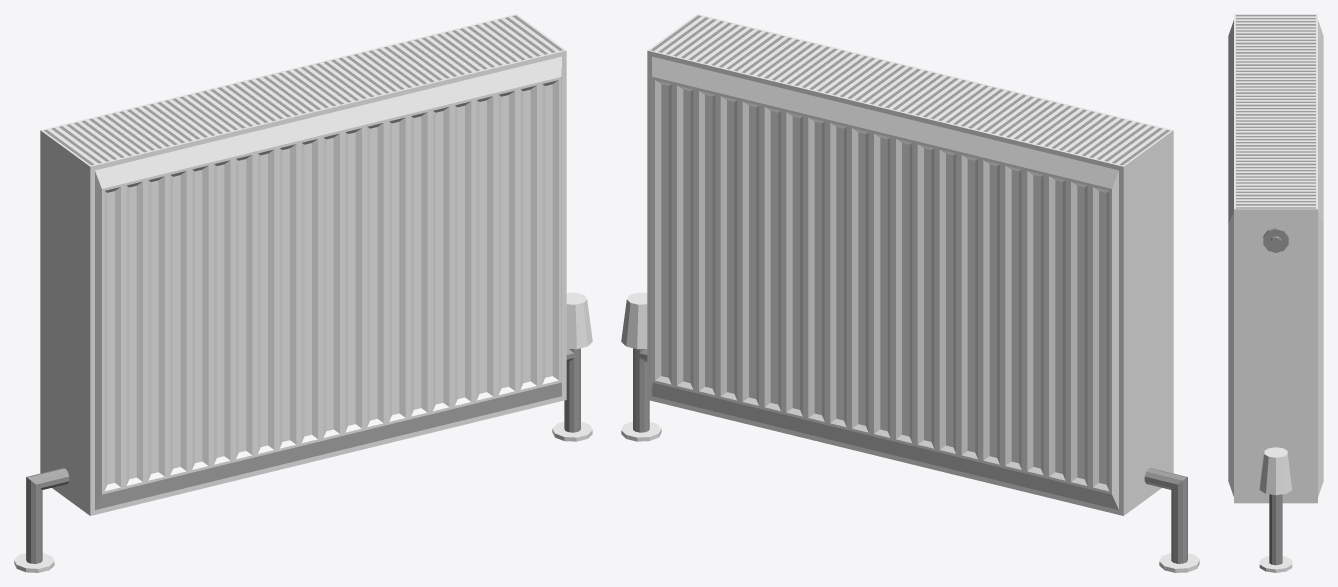
Rendered from c2ffd73c-1861-4588-8241-5872cec1a251.glb.
3 renders of one model, left to right at view 1: azimuth 30°, elevation 25°; view 2: azimuth 150°, elevation 25°; view 3: azimuth 270°, elevation 25°, orthographic. The views are drawn at different scales.
Parts seen in each view (by area): view 1: Radiator; view 2: Radiator; view 3: Radiator.
Boxes of the visible parts, x1,y1,x2,y2 form: Radiator: (14, 14, 592, 572); Radiator: (621, 14, 1199, 572); Radiator: (1228, 14, 1323, 572).
Size of the model in its own units: 114 by 77.8 by 19.52.
1 material, 1 textured.
